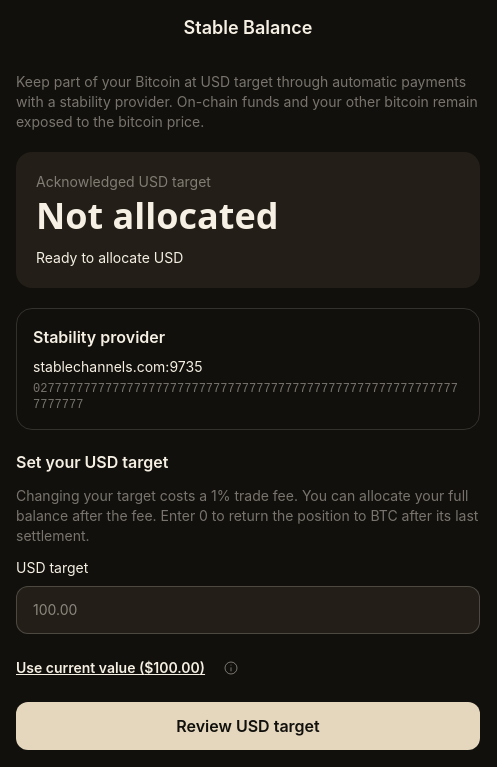
Stable Balance › fills the current value after refreshing prices and still requires review and confirmation
The width and height of the screenshot is (497, 767).
Click the button "Use current value ($100.00)" at (111, 668), box [16,646,205,690]
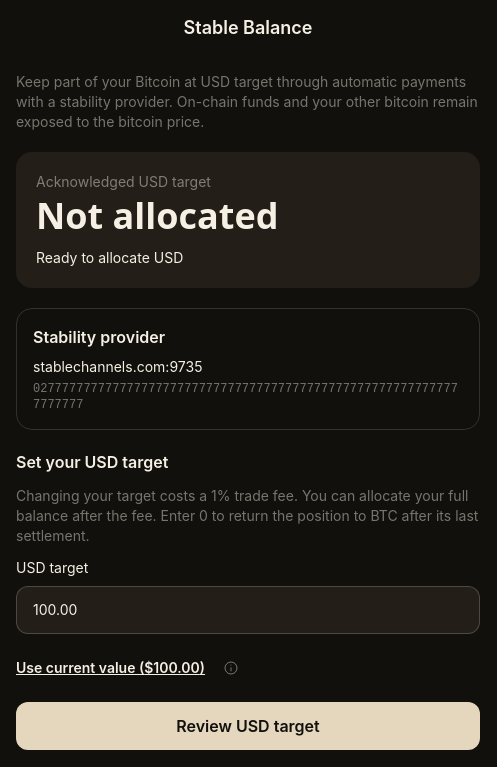
Expected: the button "Confirm USD target" is not shown
Expected: the field labelled "USD target" holds "100.00", [16,586,480,634]
Click the button "Review USD target" at (248, 726), box [16,702,480,750]
(page scrolled)
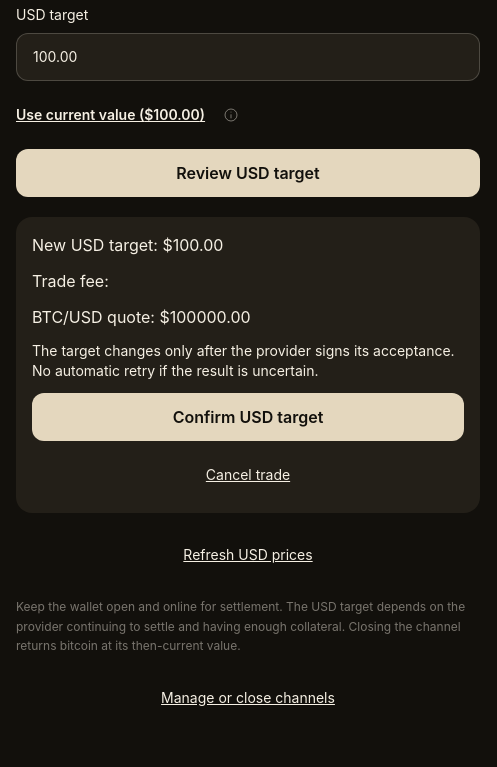
Expected: the button "Confirm USD target" is shown, [32,393,464,441]
